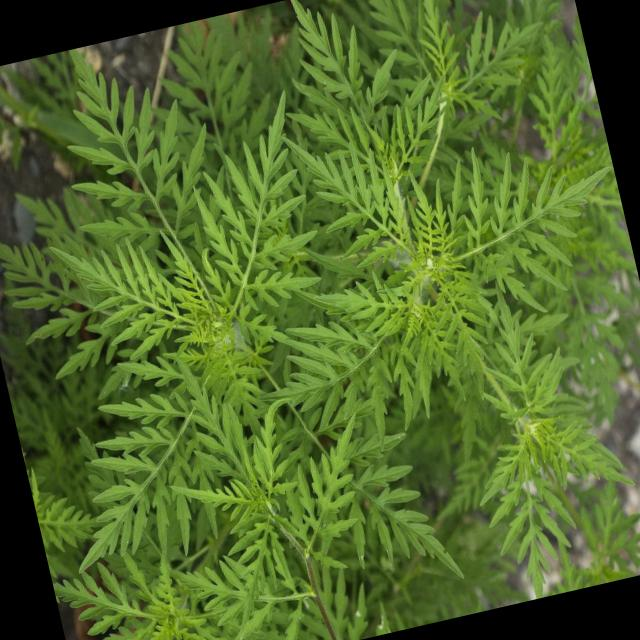ambrosia: (63, 84, 333, 528), (422, 151, 608, 315), (480, 345, 620, 555), (281, 105, 425, 278), (292, 266, 458, 412), (100, 542, 224, 640)
